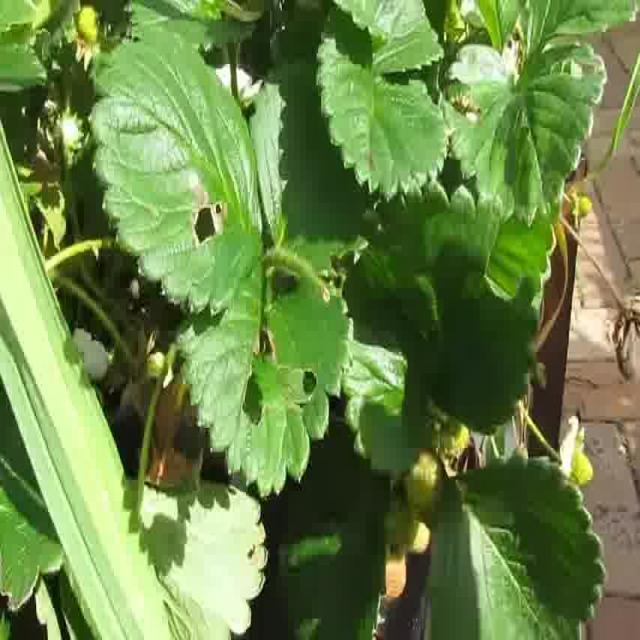Fruta sana: (377, 486, 432, 558), (406, 444, 446, 514), (372, 534, 408, 601)
Moho gris: (614, 295, 640, 381)
